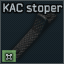KAC URX 3%53.1 stopper panel Flat Dark Earth: (0, 0, 64, 64)
